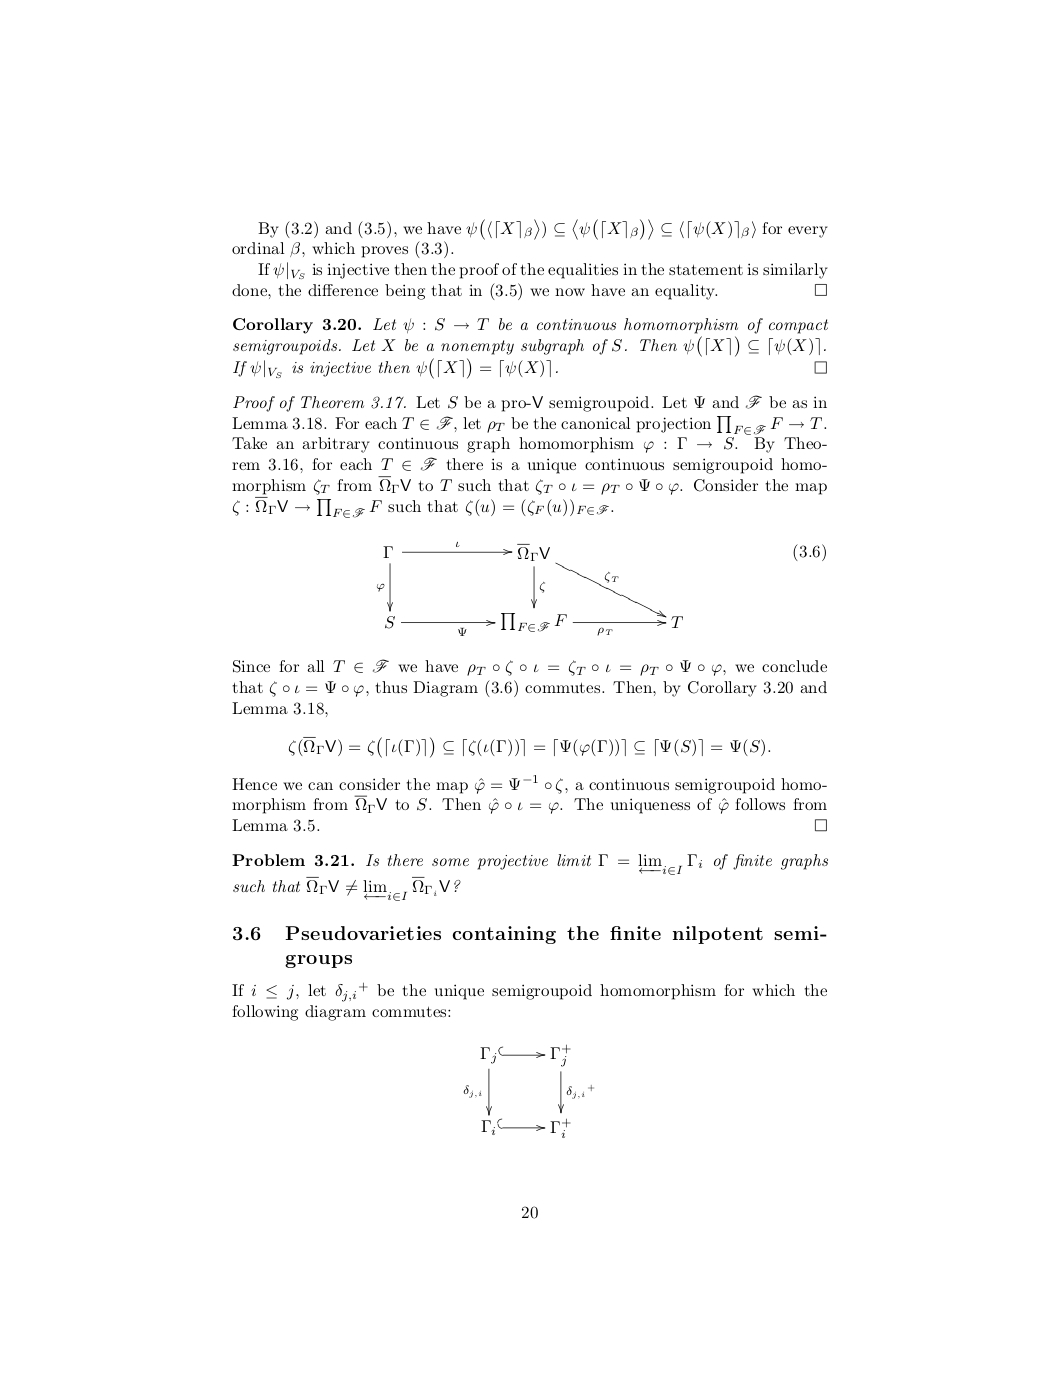formula: (376, 541, 825, 636), (463, 1044, 594, 1137), (288, 736, 770, 758)
